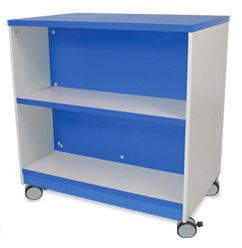Carts: (6, 13, 230, 239)
